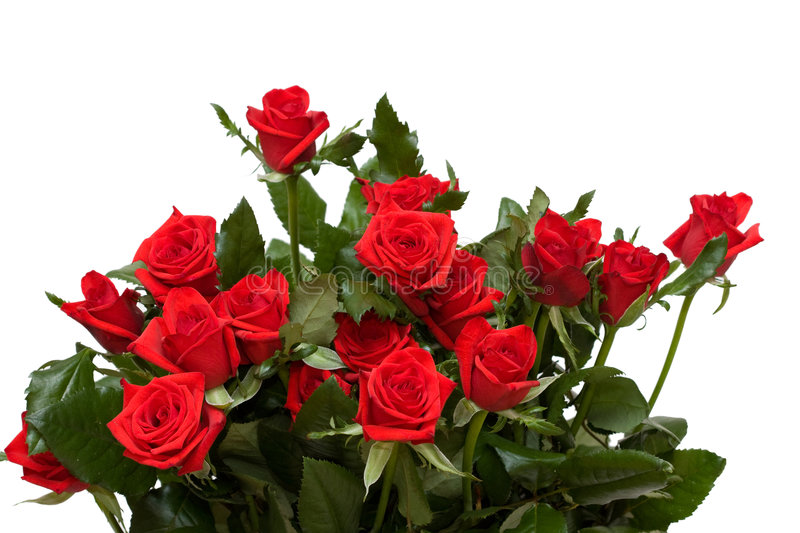RedRose: (137, 283, 249, 386), (343, 184, 456, 281), (123, 199, 229, 291), (245, 93, 351, 182), (665, 176, 760, 273), (114, 373, 212, 466), (216, 267, 298, 367), (53, 263, 136, 361), (362, 343, 443, 436), (522, 210, 597, 309), (606, 229, 670, 338), (462, 344, 563, 411), (425, 259, 506, 334), (5, 413, 79, 484), (286, 358, 351, 422), (330, 296, 425, 339)
